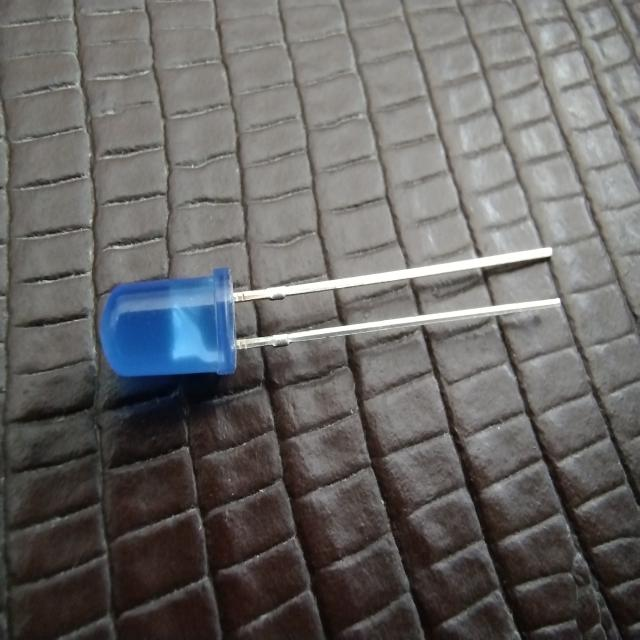blue_led: (99, 266, 238, 379)
